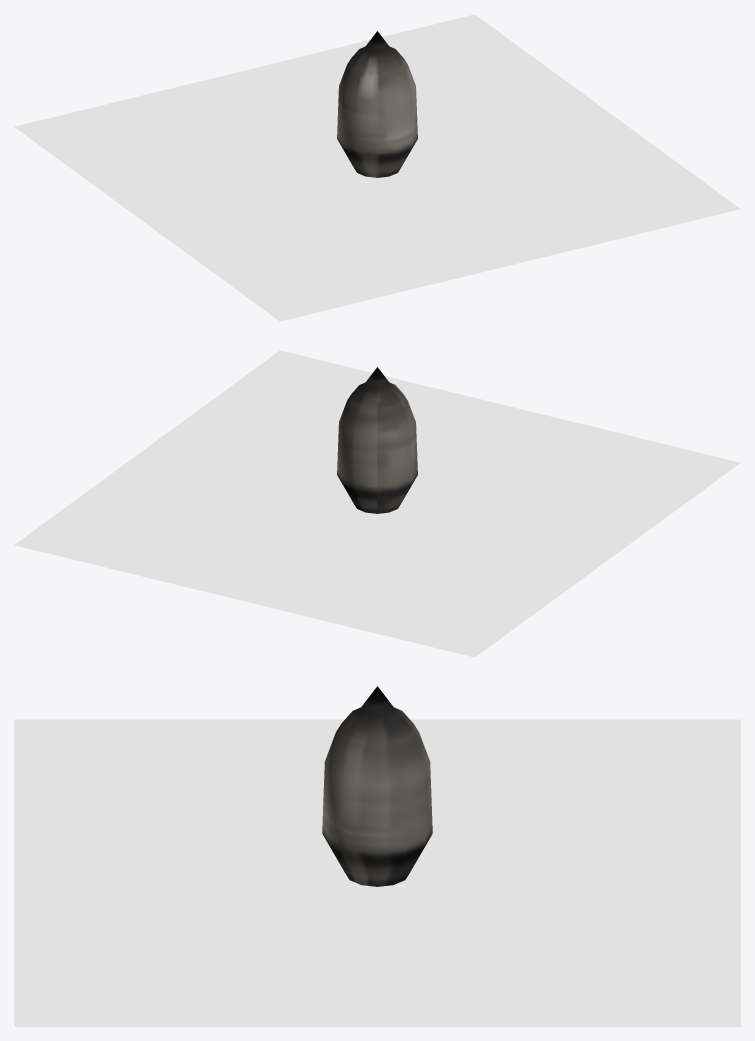
File: statusLight.fbx
The picture shows the model from 3 angles, top to bottom: view 1: azimuth 30°, elevation 25°; view 2: azimuth 150°, elevation 25°; view 3: azimuth 270°, elevation 25°; orthographic projection. The views are drawn at different scales.
Visible parts, largest first — view 1: LightGlow, Component_LED_OFF; view 2: LightGlow, Component_LED_OFF; view 3: LightGlow, Component_LED_OFF.
Boxes of the visible parts, box(x1,y1,x2,y2) form: LightGlow: box(14, 14, 740, 321); Component_LED_OFF: box(337, 31, 417, 177); LightGlow: box(14, 350, 740, 657); Component_LED_OFF: box(337, 367, 417, 513); LightGlow: box(14, 719, 740, 1026); Component_LED_OFF: box(322, 686, 432, 886).
Size of the model in its own units: 0.121 by 0.0349 by 0.121.
3 materials, 3 textured.
